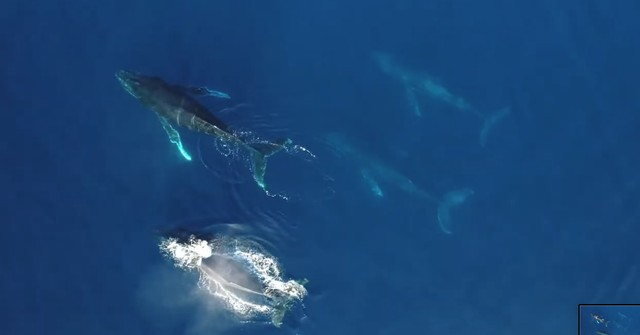whale: (107, 61, 298, 197), (311, 126, 481, 240), (141, 224, 317, 327), (358, 47, 523, 150)
